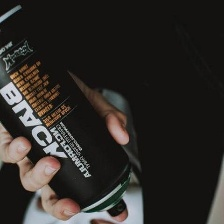aerosol_cans: (0, 1, 137, 221)
